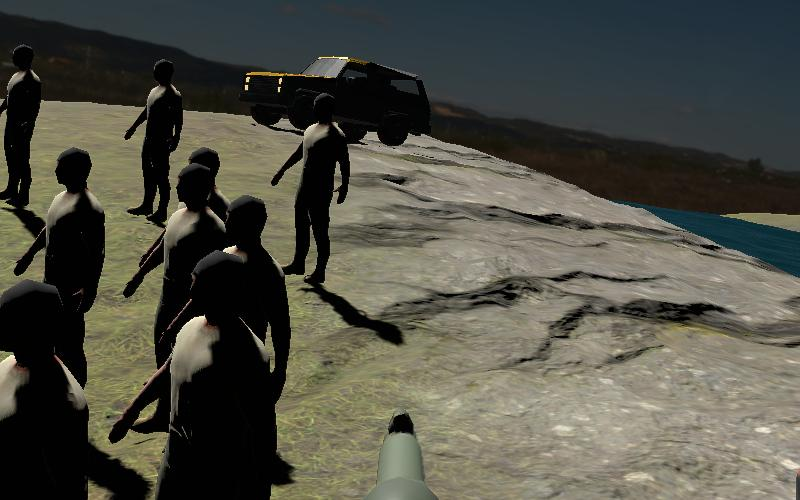Human: (122, 158, 237, 376), (0, 266, 98, 498), (267, 89, 356, 288), (11, 142, 111, 306), (120, 52, 191, 224), (0, 37, 50, 211)
car: (235, 48, 438, 149)
